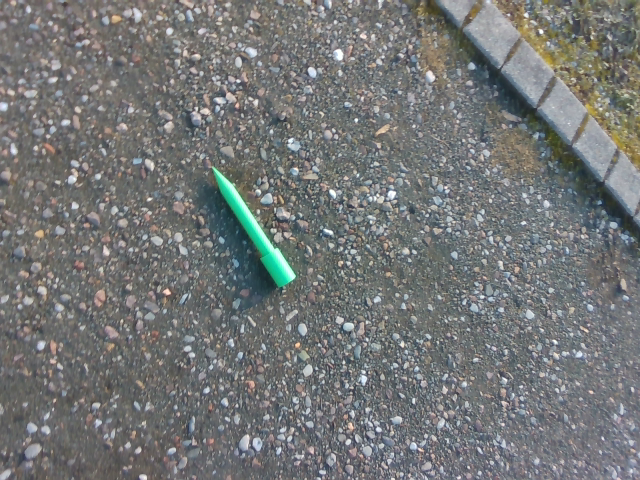Probe: (209, 156, 298, 294)
